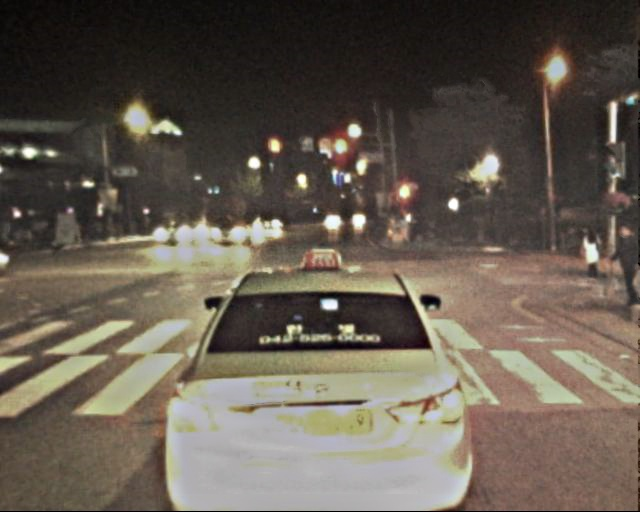person: (613, 226, 640, 309), (617, 227, 639, 285), (580, 228, 602, 281), (410, 218, 444, 244), (4, 215, 26, 246)
